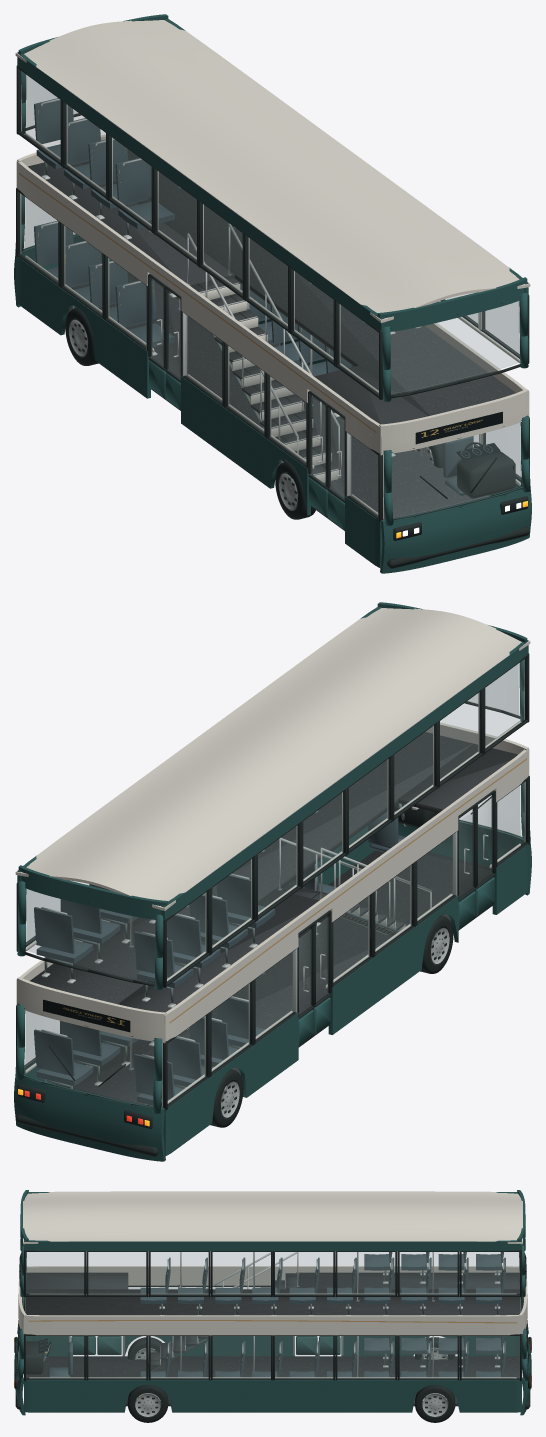
The model's file is serein-d11-lod0.glb.
The picture shows the model from 3 angles, top to bottom: view 1: azimuth 30°, elevation 25°; view 2: azimuth 150°, elevation 25°; view 3: azimuth 270°, elevation 25°; orthographic projection. The views are drawn at different scales.
Visible parts, largest first — view 1: LOD0-bus-detail-0-pearl-batch, LOD0-bus-detail-0-glass-batch, LOD0-bus-detail-0-floor-batch, LOD0-bus-detail-0-paint-batch, LOD0-bus-detail-0-dark-batch, LOD0-bus-detail-0-cloth-batch, LOD0-bus-detail-0-interior-batch, LOD0-bus-detail-0-metal-batch, LOD0-bus-detail-0-display-batch, LOD0-bus-door-0-port-leaf--1-glass-batch, LOD0-bus-door-0-port-leaf-1-glass-batch, LOD0-wheel-front--1-dark-batch (+6 smaller); view 2: LOD0-bus-detail-0-pearl-batch, LOD0-bus-detail-0-glass-batch, LOD0-bus-detail-0-paint-batch, LOD0-bus-detail-0-floor-batch, LOD0-bus-detail-0-cloth-batch, LOD0-bus-detail-0-dark-batch, LOD0-bus-detail-0-interior-batch, LOD0-bus-detail-0-metal-batch, LOD0-bus-detail-0-steel-batch, LOD0-bus-door-0-port-leaf--1-glass-batch, LOD0-bus-door-0-port-leaf-1-glass-batch, LOD0-bus-detail-0-display-batch (+6 smaller); view 3: LOD0-bus-detail-0-pearl-batch, LOD0-bus-detail-0-glass-batch, LOD0-bus-detail-0-paint-batch, LOD0-bus-detail-0-floor-batch, LOD0-bus-detail-0-cloth-batch, LOD0-bus-detail-0-dark-batch, LOD0-bus-detail-0-metal-batch, LOD0-bus-detail-0-interior-batch, LOD0-wheel-rear-1-dark-batch, LOD0-wheel-front-1-dark-batch, LOD0-bus-detail-0-livery-batch, LOD0-bus-detail-0-steel-batch (+7 smaller).
Boxes of the visible parts, bbox=[...] form: LOD0-bus-detail-0-pearl-batch: bbox=[15, 20, 530, 455]; LOD0-bus-detail-0-glass-batch: bbox=[20, 72, 521, 517]; LOD0-bus-detail-0-floor-batch: bbox=[28, 149, 515, 530]; LOD0-bus-detail-0-paint-batch: bbox=[14, 14, 531, 573]; LOD0-bus-detail-0-dark-batch: bbox=[16, 65, 530, 568]; LOD0-bus-detail-0-cloth-batch: bbox=[34, 98, 473, 495]; LOD0-bus-detail-0-interior-batch: bbox=[20, 85, 520, 519]; LOD0-bus-detail-0-metal-batch: bbox=[41, 98, 473, 496]; LOD0-bus-detail-0-display-batch: bbox=[415, 411, 502, 460]; LOD0-bus-door-0-port-leaf--1-glass-batch: bbox=[311, 398, 325, 484]; LOD0-bus-door-0-port-leaf-1-glass-batch: bbox=[330, 412, 344, 498]; LOD0-wheel-front--1-dark-batch: bbox=[275, 461, 315, 519]; LOD0-bus-detail-0-pearl-batch: bbox=[15, 608, 530, 1043]; LOD0-bus-detail-0-glass-batch: bbox=[24, 660, 525, 1105]; LOD0-bus-detail-0-paint-batch: bbox=[14, 602, 531, 1161]; LOD0-bus-detail-0-floor-batch: bbox=[30, 732, 517, 1105]; LOD0-bus-detail-0-cloth-batch: bbox=[34, 811, 405, 1107]; LOD0-bus-detail-0-dark-batch: bbox=[15, 653, 529, 1156]; LOD0-bus-detail-0-interior-batch: bbox=[25, 673, 525, 1107]; LOD0-bus-detail-0-metal-batch: bbox=[41, 804, 492, 1090]; LOD0-bus-detail-0-steel-batch: bbox=[44, 803, 432, 1106]; LOD0-bus-door-0-port-leaf--1-glass-batch: bbox=[459, 811, 473, 898]; LOD0-bus-door-0-port-leaf-1-glass-batch: bbox=[478, 797, 492, 884]; LOD0-bus-detail-0-display-batch: bbox=[43, 999, 130, 1032]; LOD0-bus-detail-0-pearl-batch: bbox=[18, 1191, 527, 1335]; LOD0-bus-detail-0-glass-batch: bbox=[18, 1252, 527, 1378]; LOD0-bus-detail-0-paint-batch: bbox=[14, 1190, 531, 1415]; LOD0-bus-detail-0-floor-batch: bbox=[25, 1272, 520, 1406]; LOD0-bus-detail-0-cloth-batch: bbox=[48, 1252, 505, 1387]; LOD0-bus-detail-0-dark-batch: bbox=[14, 1250, 531, 1409]; LOD0-bus-detail-0-metal-batch: bbox=[47, 1252, 504, 1401]; LOD0-bus-detail-0-interior-batch: bbox=[25, 1274, 520, 1378]; LOD0-wheel-rear-1-dark-batch: bbox=[415, 1385, 455, 1422]; LOD0-wheel-front-1-dark-batch: bbox=[127, 1385, 168, 1422]; LOD0-bus-detail-0-livery-batch: bbox=[28, 1265, 517, 1364]; LOD0-bus-detail-0-steel-batch: bbox=[43, 1270, 498, 1371].
Bounding box in the file's own units: 2.54 × 4.4 × 10.99.
14 materials, 4 textured.
